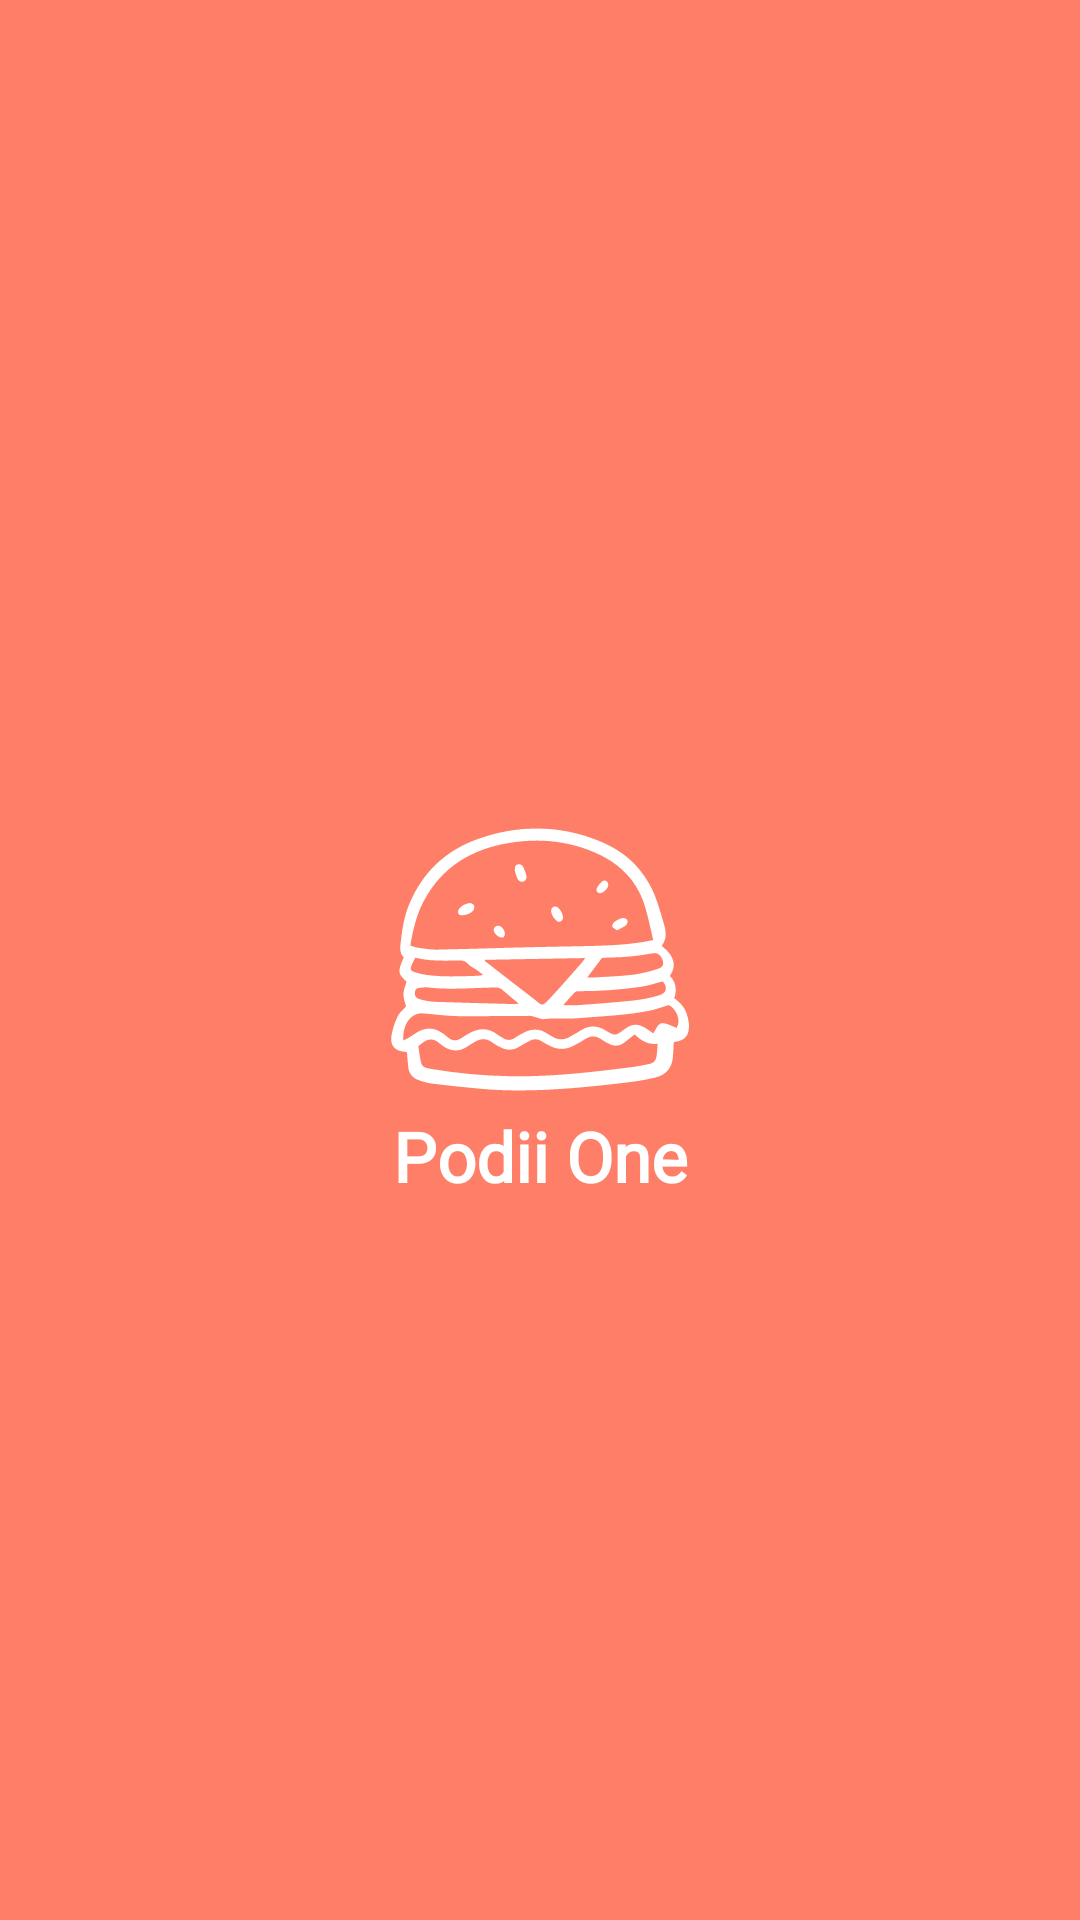

Where to tap for icons on this 1080*1920 app screen, as (x=x, y=y):
burger: (x=540, y=959)
